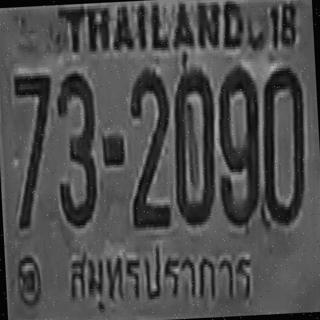N00: (257, 65, 308, 224), (170, 68, 218, 224)
N02: (126, 68, 174, 227)
N03: (53, 70, 100, 226)
N07: (12, 71, 58, 228)
N09: (214, 64, 263, 226)
P57: (62, 227, 259, 318)
